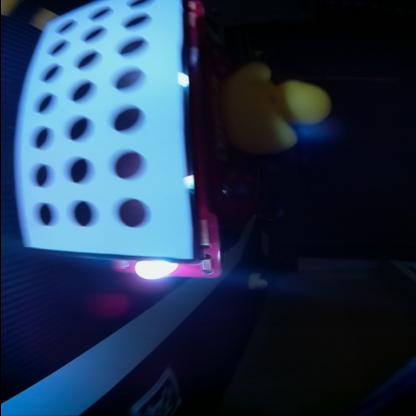Duckie: (224, 66, 330, 150), (249, 273, 268, 289)
Duckiebot: (15, 0, 222, 278)
QR code: (129, 372, 183, 414)
